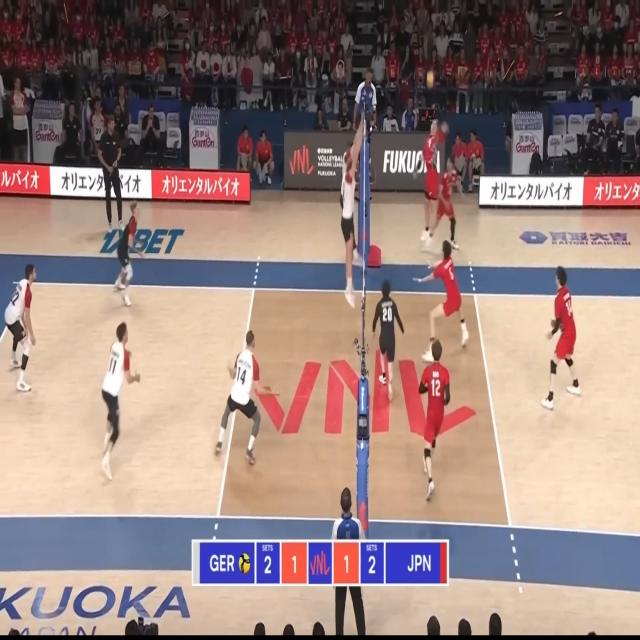ball: (427, 71, 434, 89)
